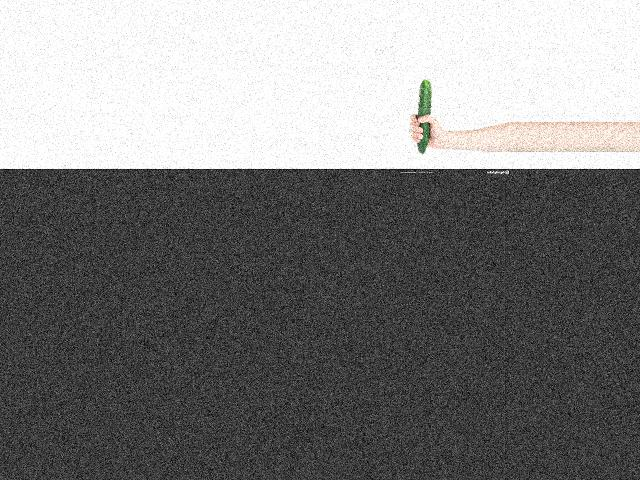cucumber: (416, 80, 431, 155)
